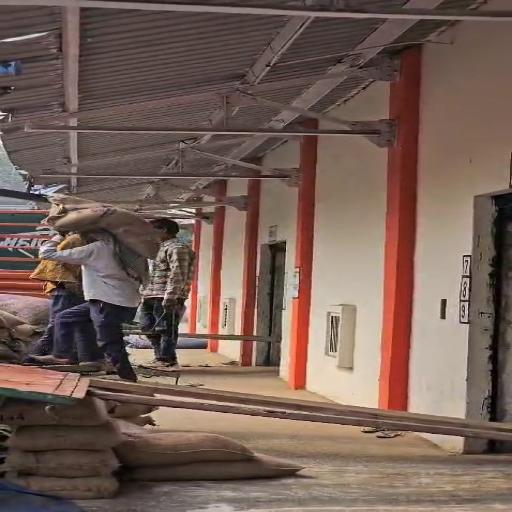bag: (46, 200, 167, 259)
